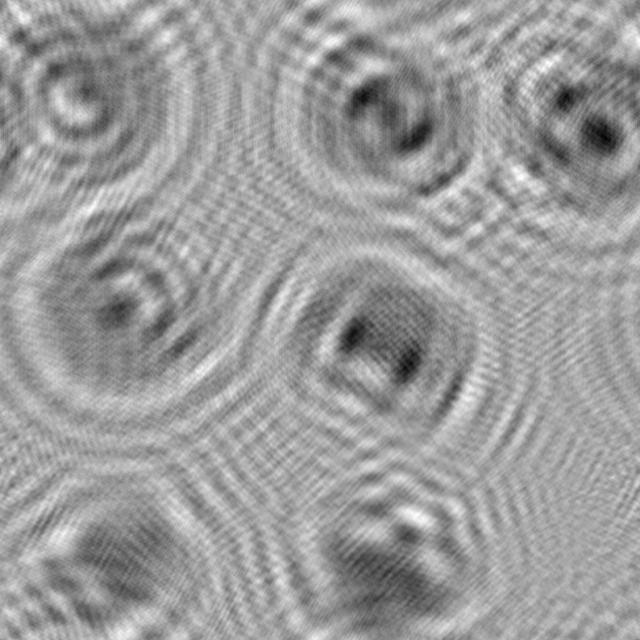C: (0, 0, 208, 221)
E: (241, 209, 514, 468)
K: (267, 428, 508, 640)
R: (458, 0, 640, 241)
S: (256, 0, 496, 230)
T: (0, 444, 241, 639)
U: (0, 189, 257, 436)
